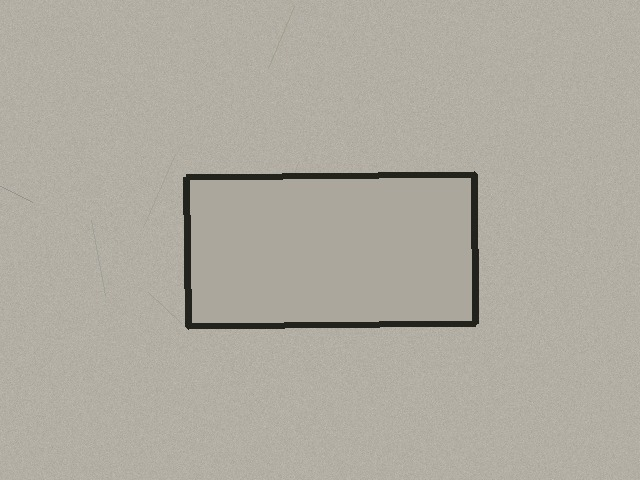parking_area: (186, 174, 475, 326)
